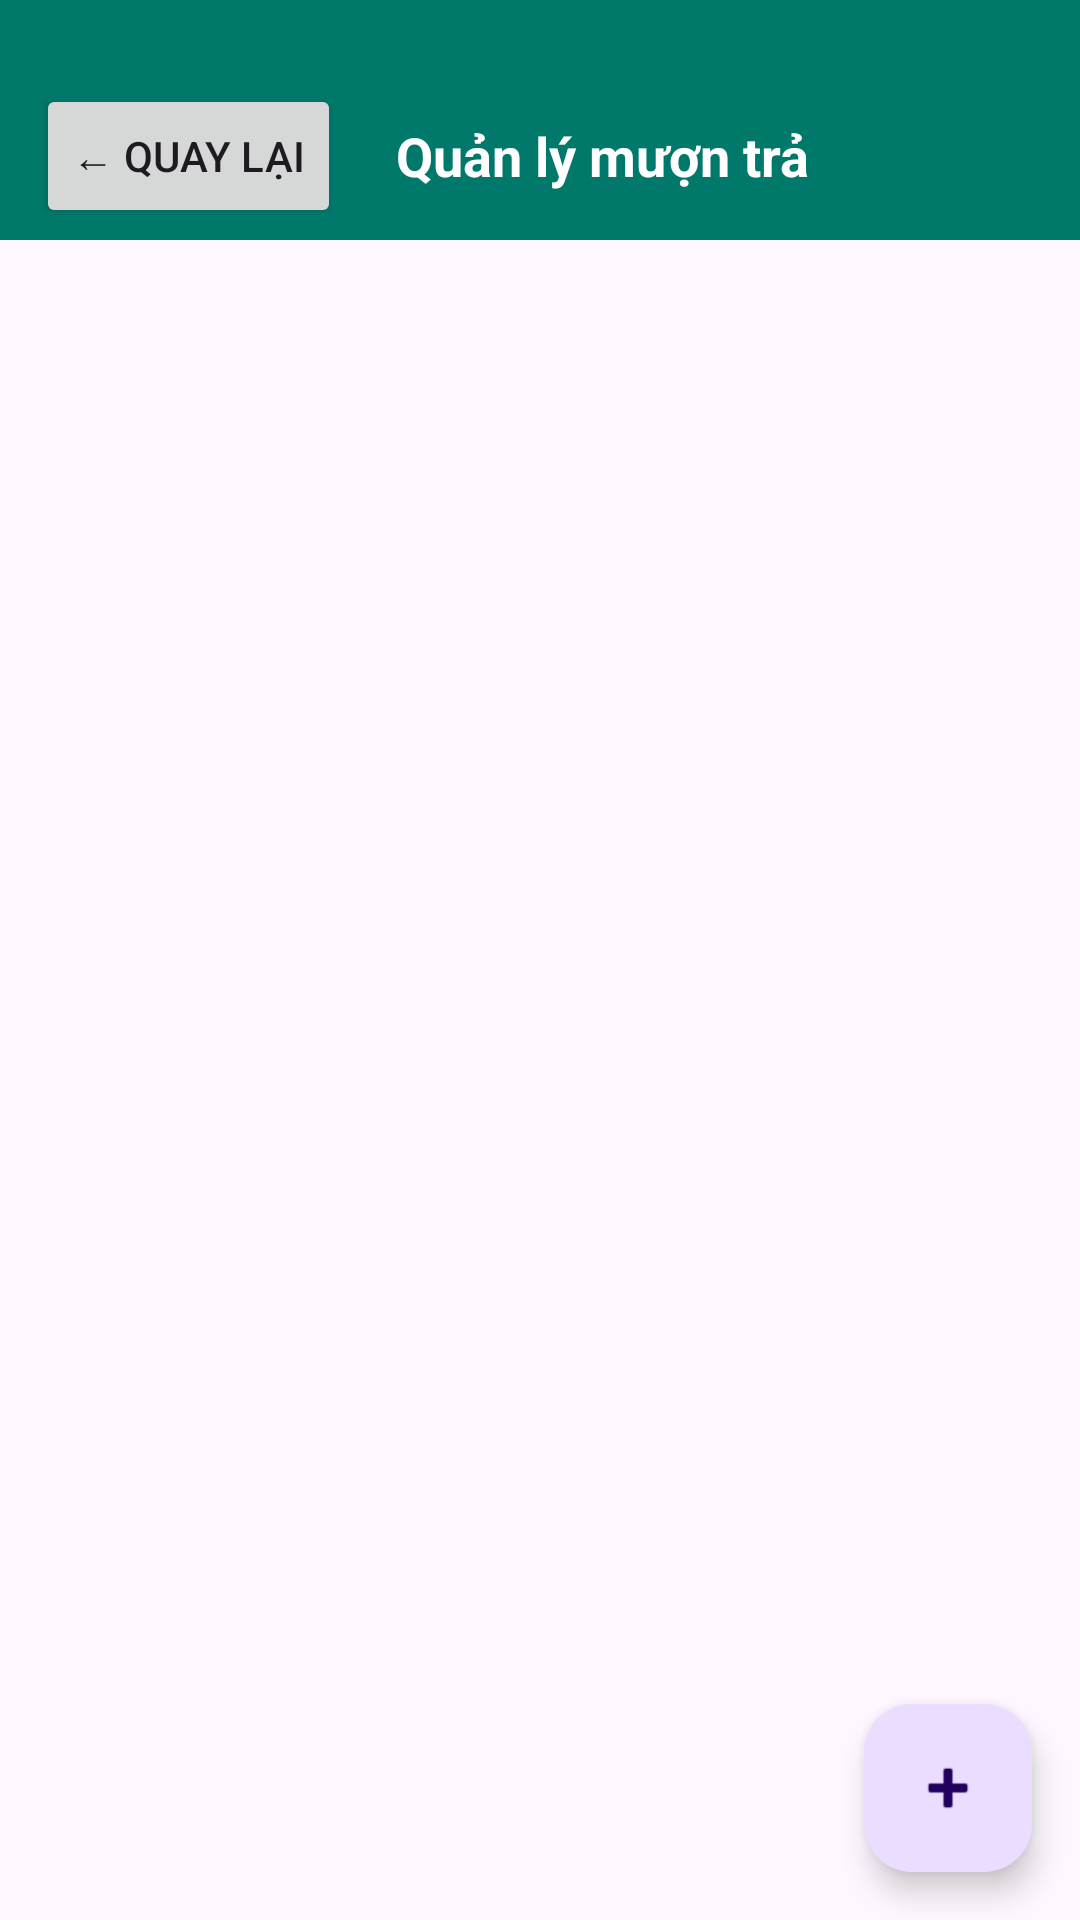

Icon click points for this 1080x1920 phone screenshot, format point (x, y):
Tạo phiếu mượn: point (948, 1788)
